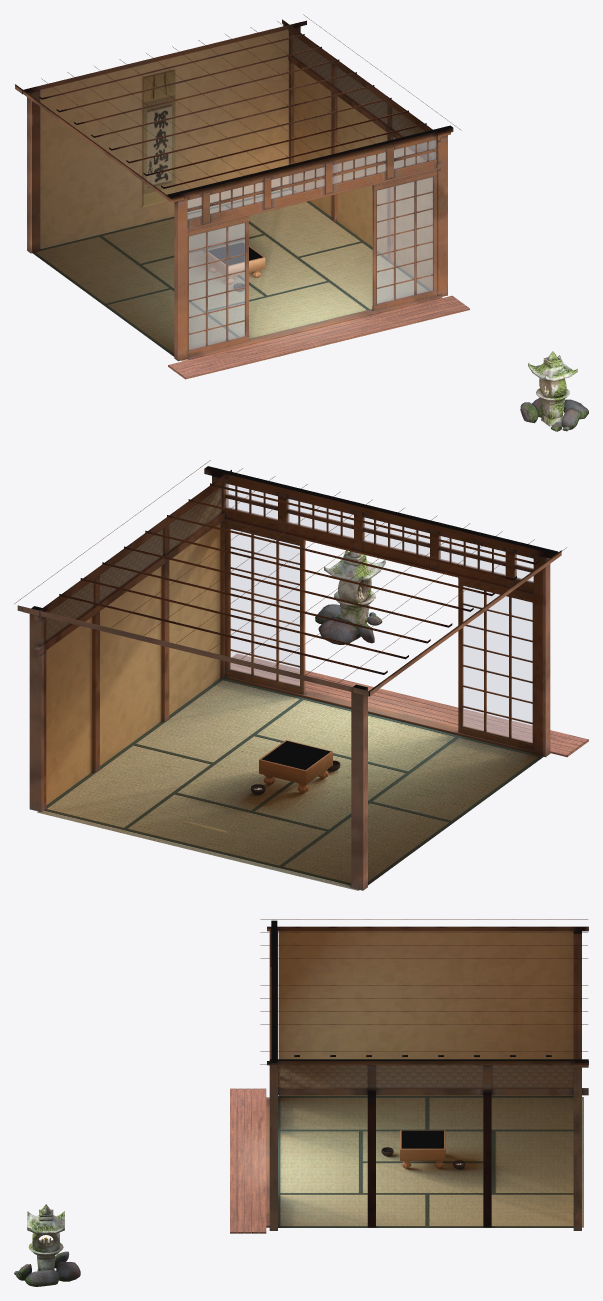
The model's file is zen-pavilion-y270.glb.
The picture shows the model from 3 angles, top to bottom: view 1: azimuth 30°, elevation 25°; view 2: azimuth 150°, elevation 25°; view 3: azimuth 270°, elevation 25°; orthographic projection. The views are drawn at different scales.
Parts seen in each view (by area): view 1: Wall.001_4, Beam-03.002_3, Floor_2, Glass02_12, Glass03_13, Footer_1, Glass01_14, Additionals_UVGrid_0_8, Wall.002_5, Roof_0, WoodBase_11, Grid_6; view 2: Floor_2, Beam-03.002_3, Wall.001_4, Glass02_12, Glass03_13, Footer_1, Glass01_14, Wall.002_5, Additionals_UVGrid_0_8, Roof_0, WoodBase_11, Grid_6; view 3: Wall.001_4, Floor_2, Beam-03.002_3, Wall.002_5, Footer_1, Roof_0, Additionals_UVGrid_0_8, WoodBase_11, Grid_6.
Part boxes in pixels (bbox=[...]): Wall.001_4: bbox=[40, 29, 432, 289]; Beam-03.002_3: bbox=[15, 19, 453, 361]; Floor_2: bbox=[32, 188, 430, 361]; Glass02_12: bbox=[189, 223, 244, 349]; Glass03_13: bbox=[377, 177, 432, 303]; Footer_1: bbox=[168, 295, 469, 379]; Glass01_14: bbox=[187, 140, 435, 219]; Additionals_UVGrid_0_8: bbox=[520, 351, 588, 431]; Wall.002_5: bbox=[292, 34, 434, 158]; Roof_0: bbox=[15, 14, 461, 200]; WoodBase_11: bbox=[205, 241, 265, 284]; Grid_6: bbox=[208, 242, 262, 265]; Floor_2: bbox=[37, 678, 543, 890]; Beam-03.002_3: bbox=[17, 466, 561, 890]; Wall.001_4: bbox=[46, 523, 227, 833]; Glass02_12: bbox=[463, 586, 532, 742]; Glass03_13: bbox=[230, 529, 299, 685]; Footer_1: bbox=[231, 653, 588, 757]; Glass01_14: bbox=[226, 484, 533, 582]; Wall.002_5: bbox=[46, 488, 221, 640]; Additionals_UVGrid_0_8: bbox=[315, 550, 385, 644]; Roof_0: bbox=[14, 460, 566, 690]; WoodBase_11: bbox=[259, 740, 332, 793]; Grid_6: bbox=[261, 741, 330, 769]; Wall.001_4: bbox=[278, 931, 573, 1095]; Floor_2: bbox=[266, 1096, 583, 1227]; Beam-03.002_3: bbox=[266, 920, 588, 1230]; Wall.002_5: bbox=[278, 1065, 573, 1088]; Footer_1: bbox=[230, 1088, 266, 1233]; Roof_0: bbox=[260, 919, 587, 1064]; Additionals_UVGrid_0_8: bbox=[14, 1204, 80, 1286]; WoodBase_11: bbox=[400, 1130, 445, 1168]; Grid_6: bbox=[401, 1130, 443, 1148].
Size of the model in its own units: 7.69 by 5.05 by 11.99.
Materials: 15 (14 with a texture image).
